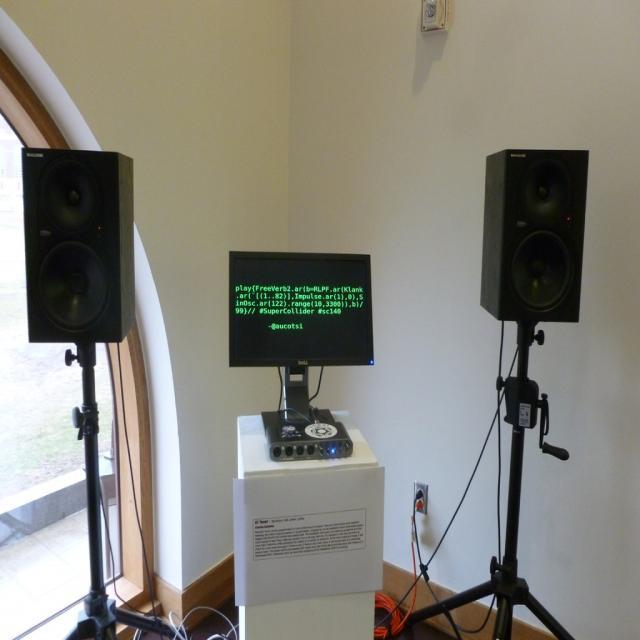others: (203, 234, 408, 416)
